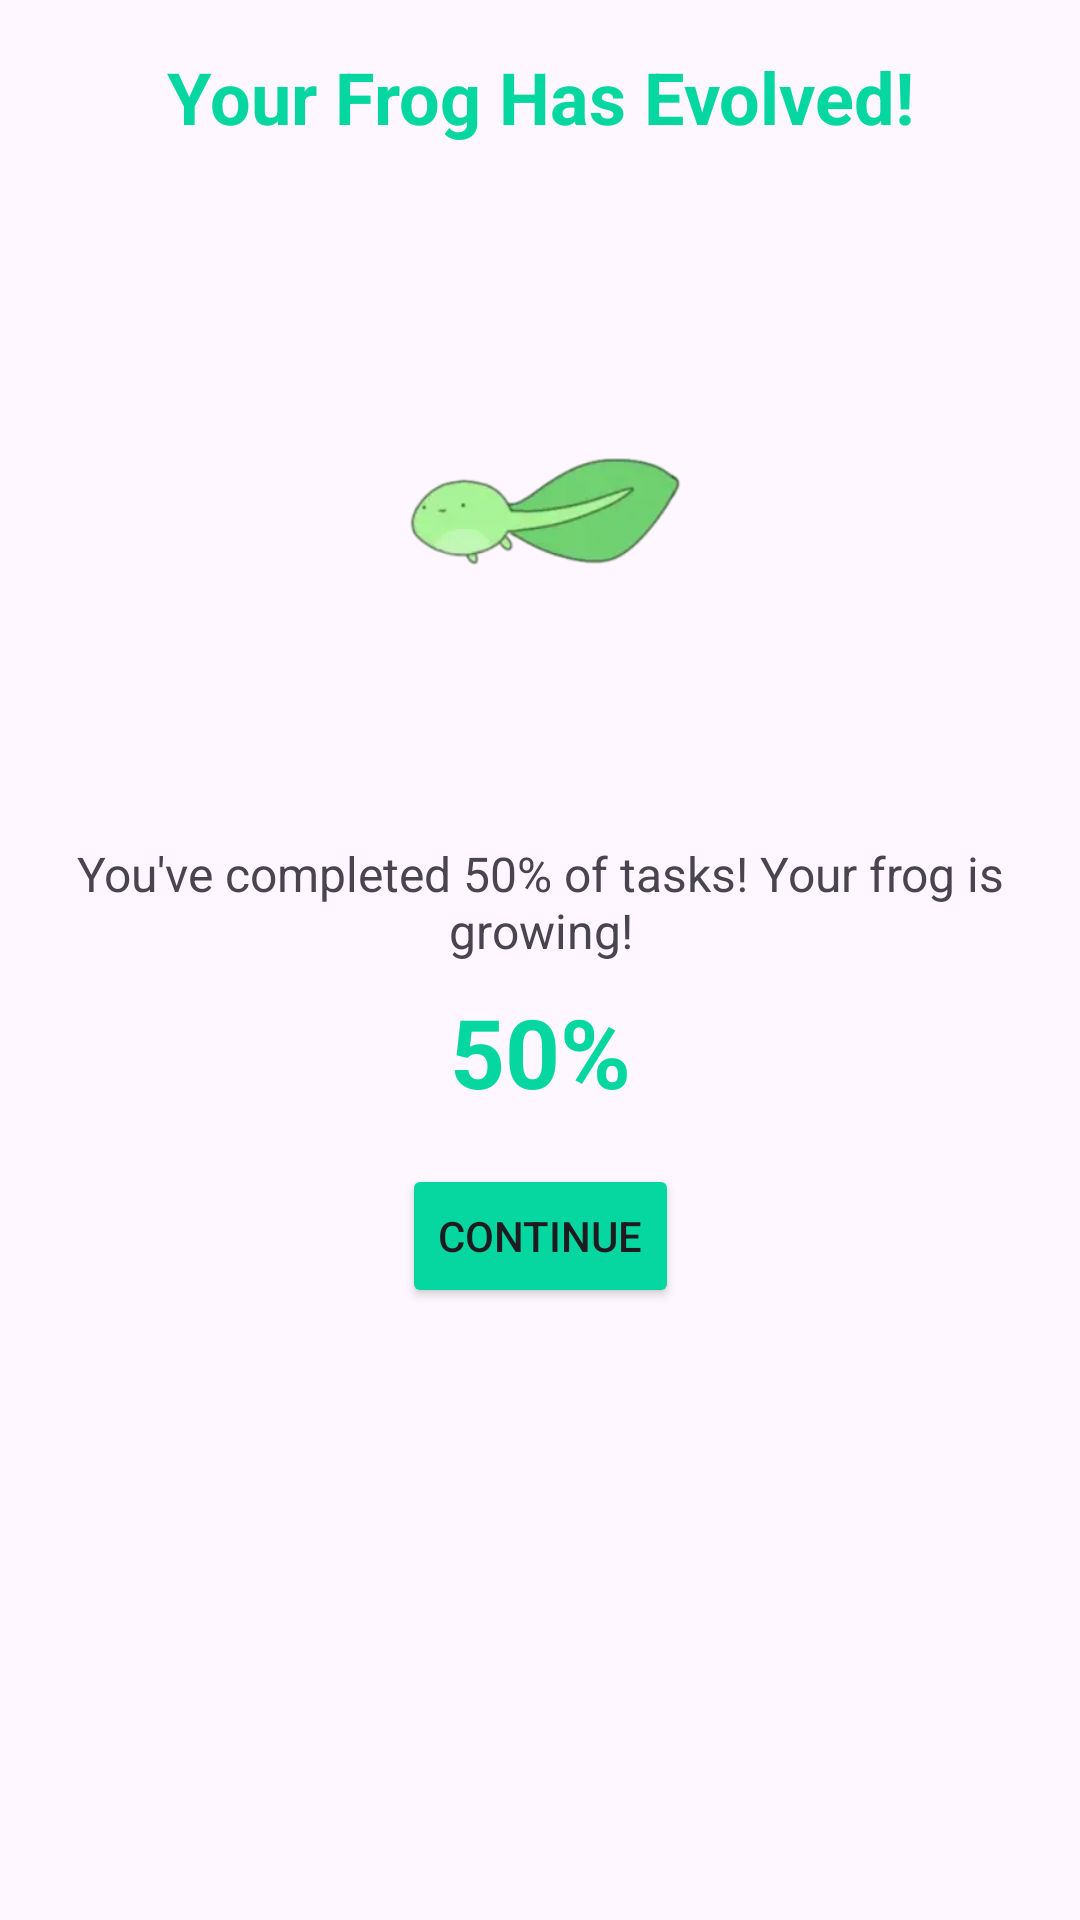

Where icons sit on this 1080 × 1920 app screen, as [left=x1, top=y1, right=x2, bottom=y2]:
frog stage: [left=410, top=458, right=680, bottom=564]
